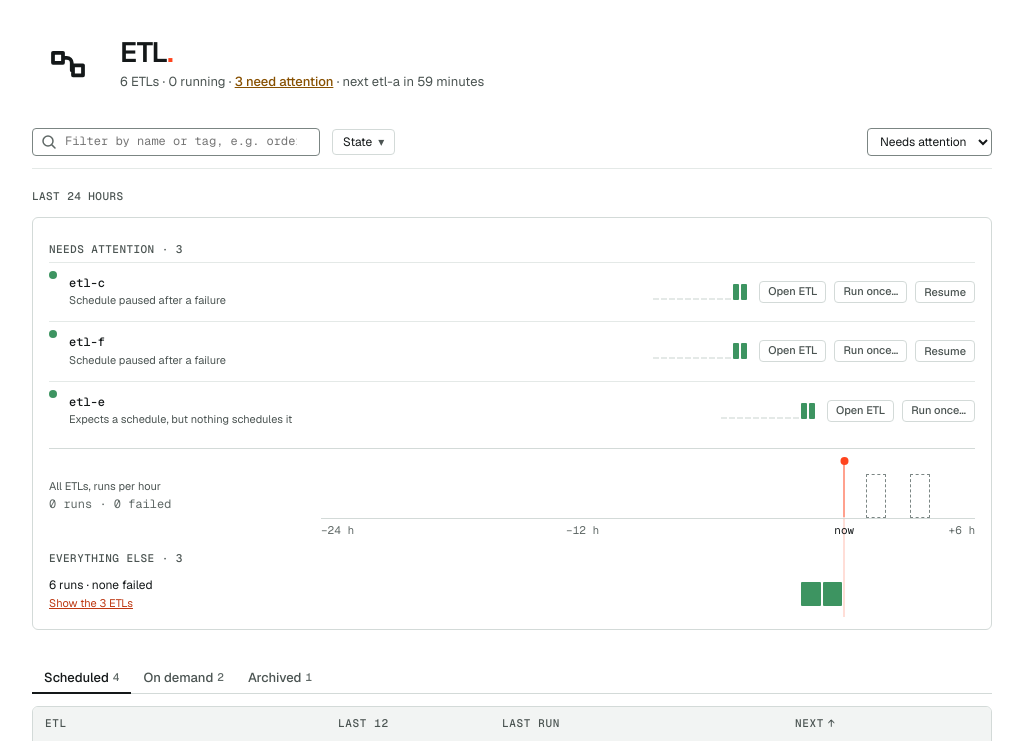
Scenario: EtlDashboard archived ETLs › offers no State filter on their tab: an archived ETL needs no one's attention
Expected: the button "State" is shown, [332,129,395,155]
Click the tab "Archived 1": (280, 678) [236,662,324,694]
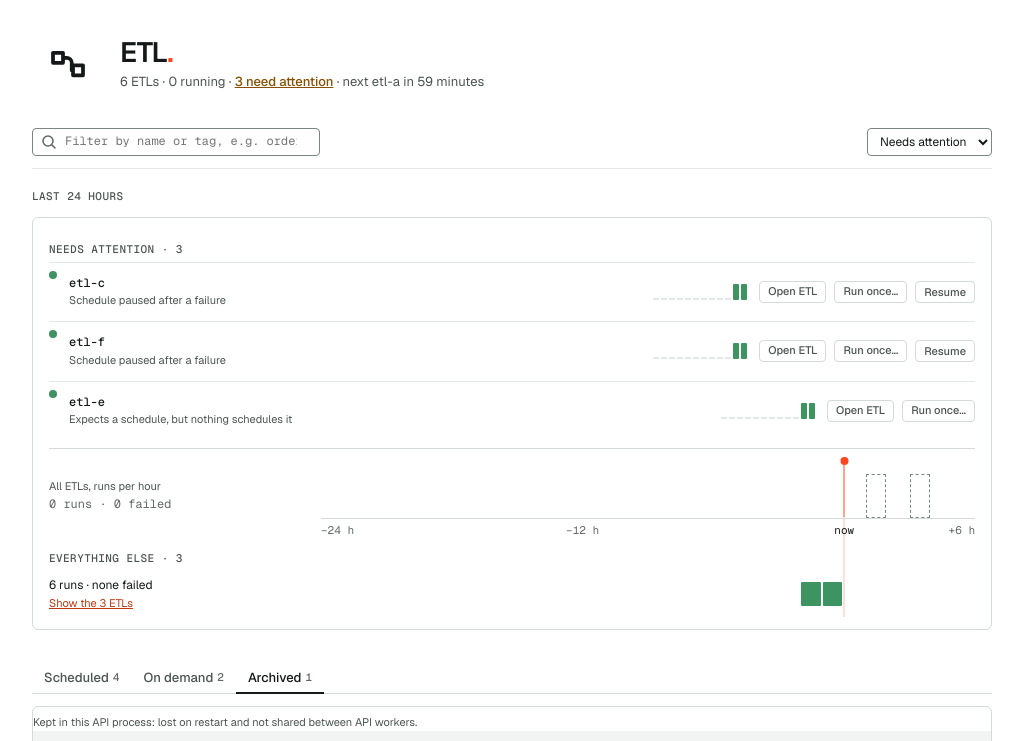
Expected: the search field named "Filter ETLs" is shown, [63,132,311,152]
Result: the button "State" is gone
